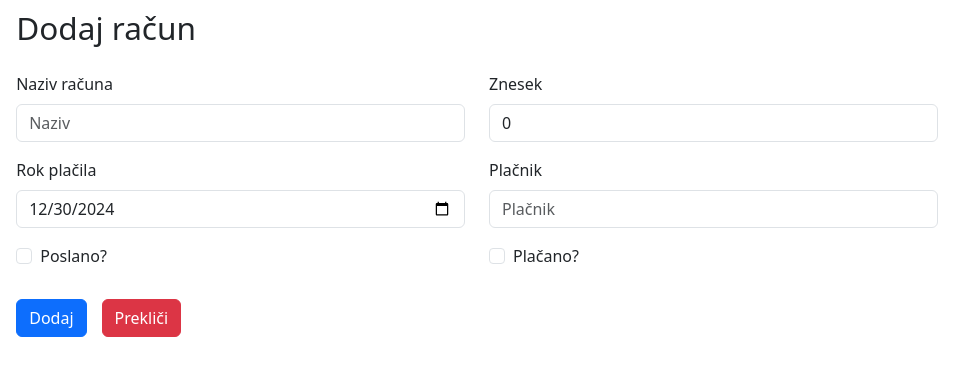
it: Required field validation › form does not submit when required field is empty
Click the button "Dodaj": (51, 318) top-left (16, 299), bottom-right (86, 337)
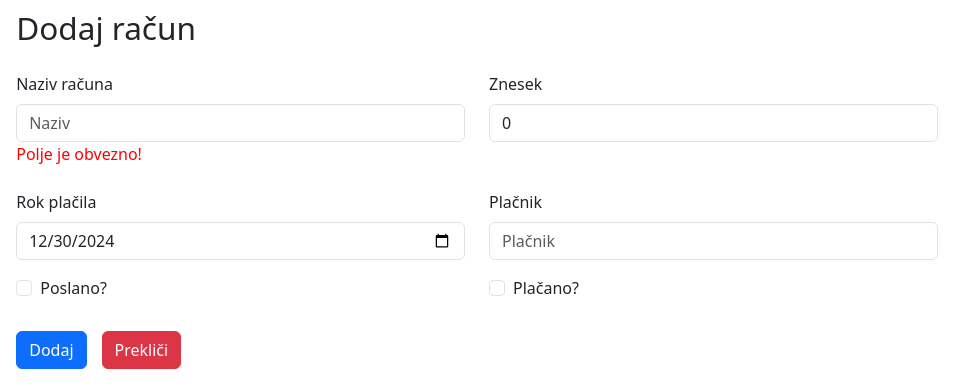
Now the text "Polje je obvezno!" is shown, box top-left (16, 143), bottom-right (142, 165)
